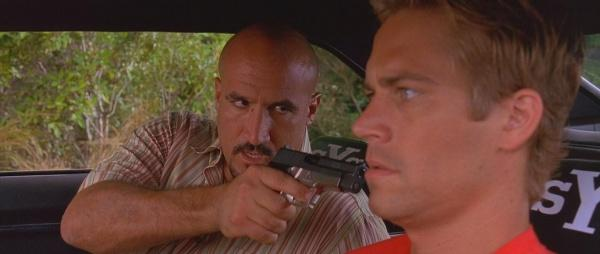Gun: (269, 146, 367, 208)
